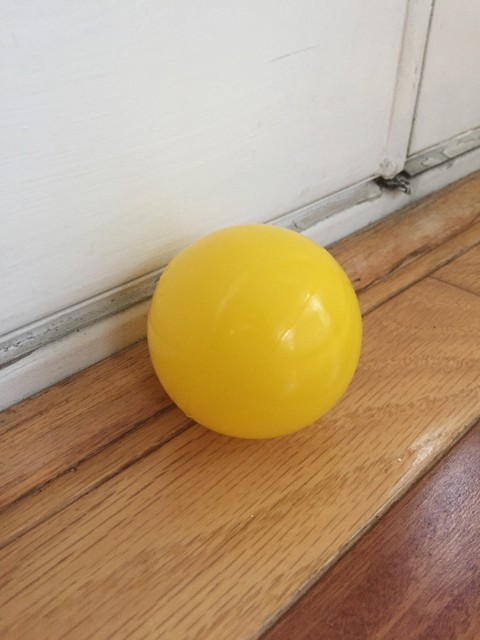ball: (147, 220, 362, 441)
